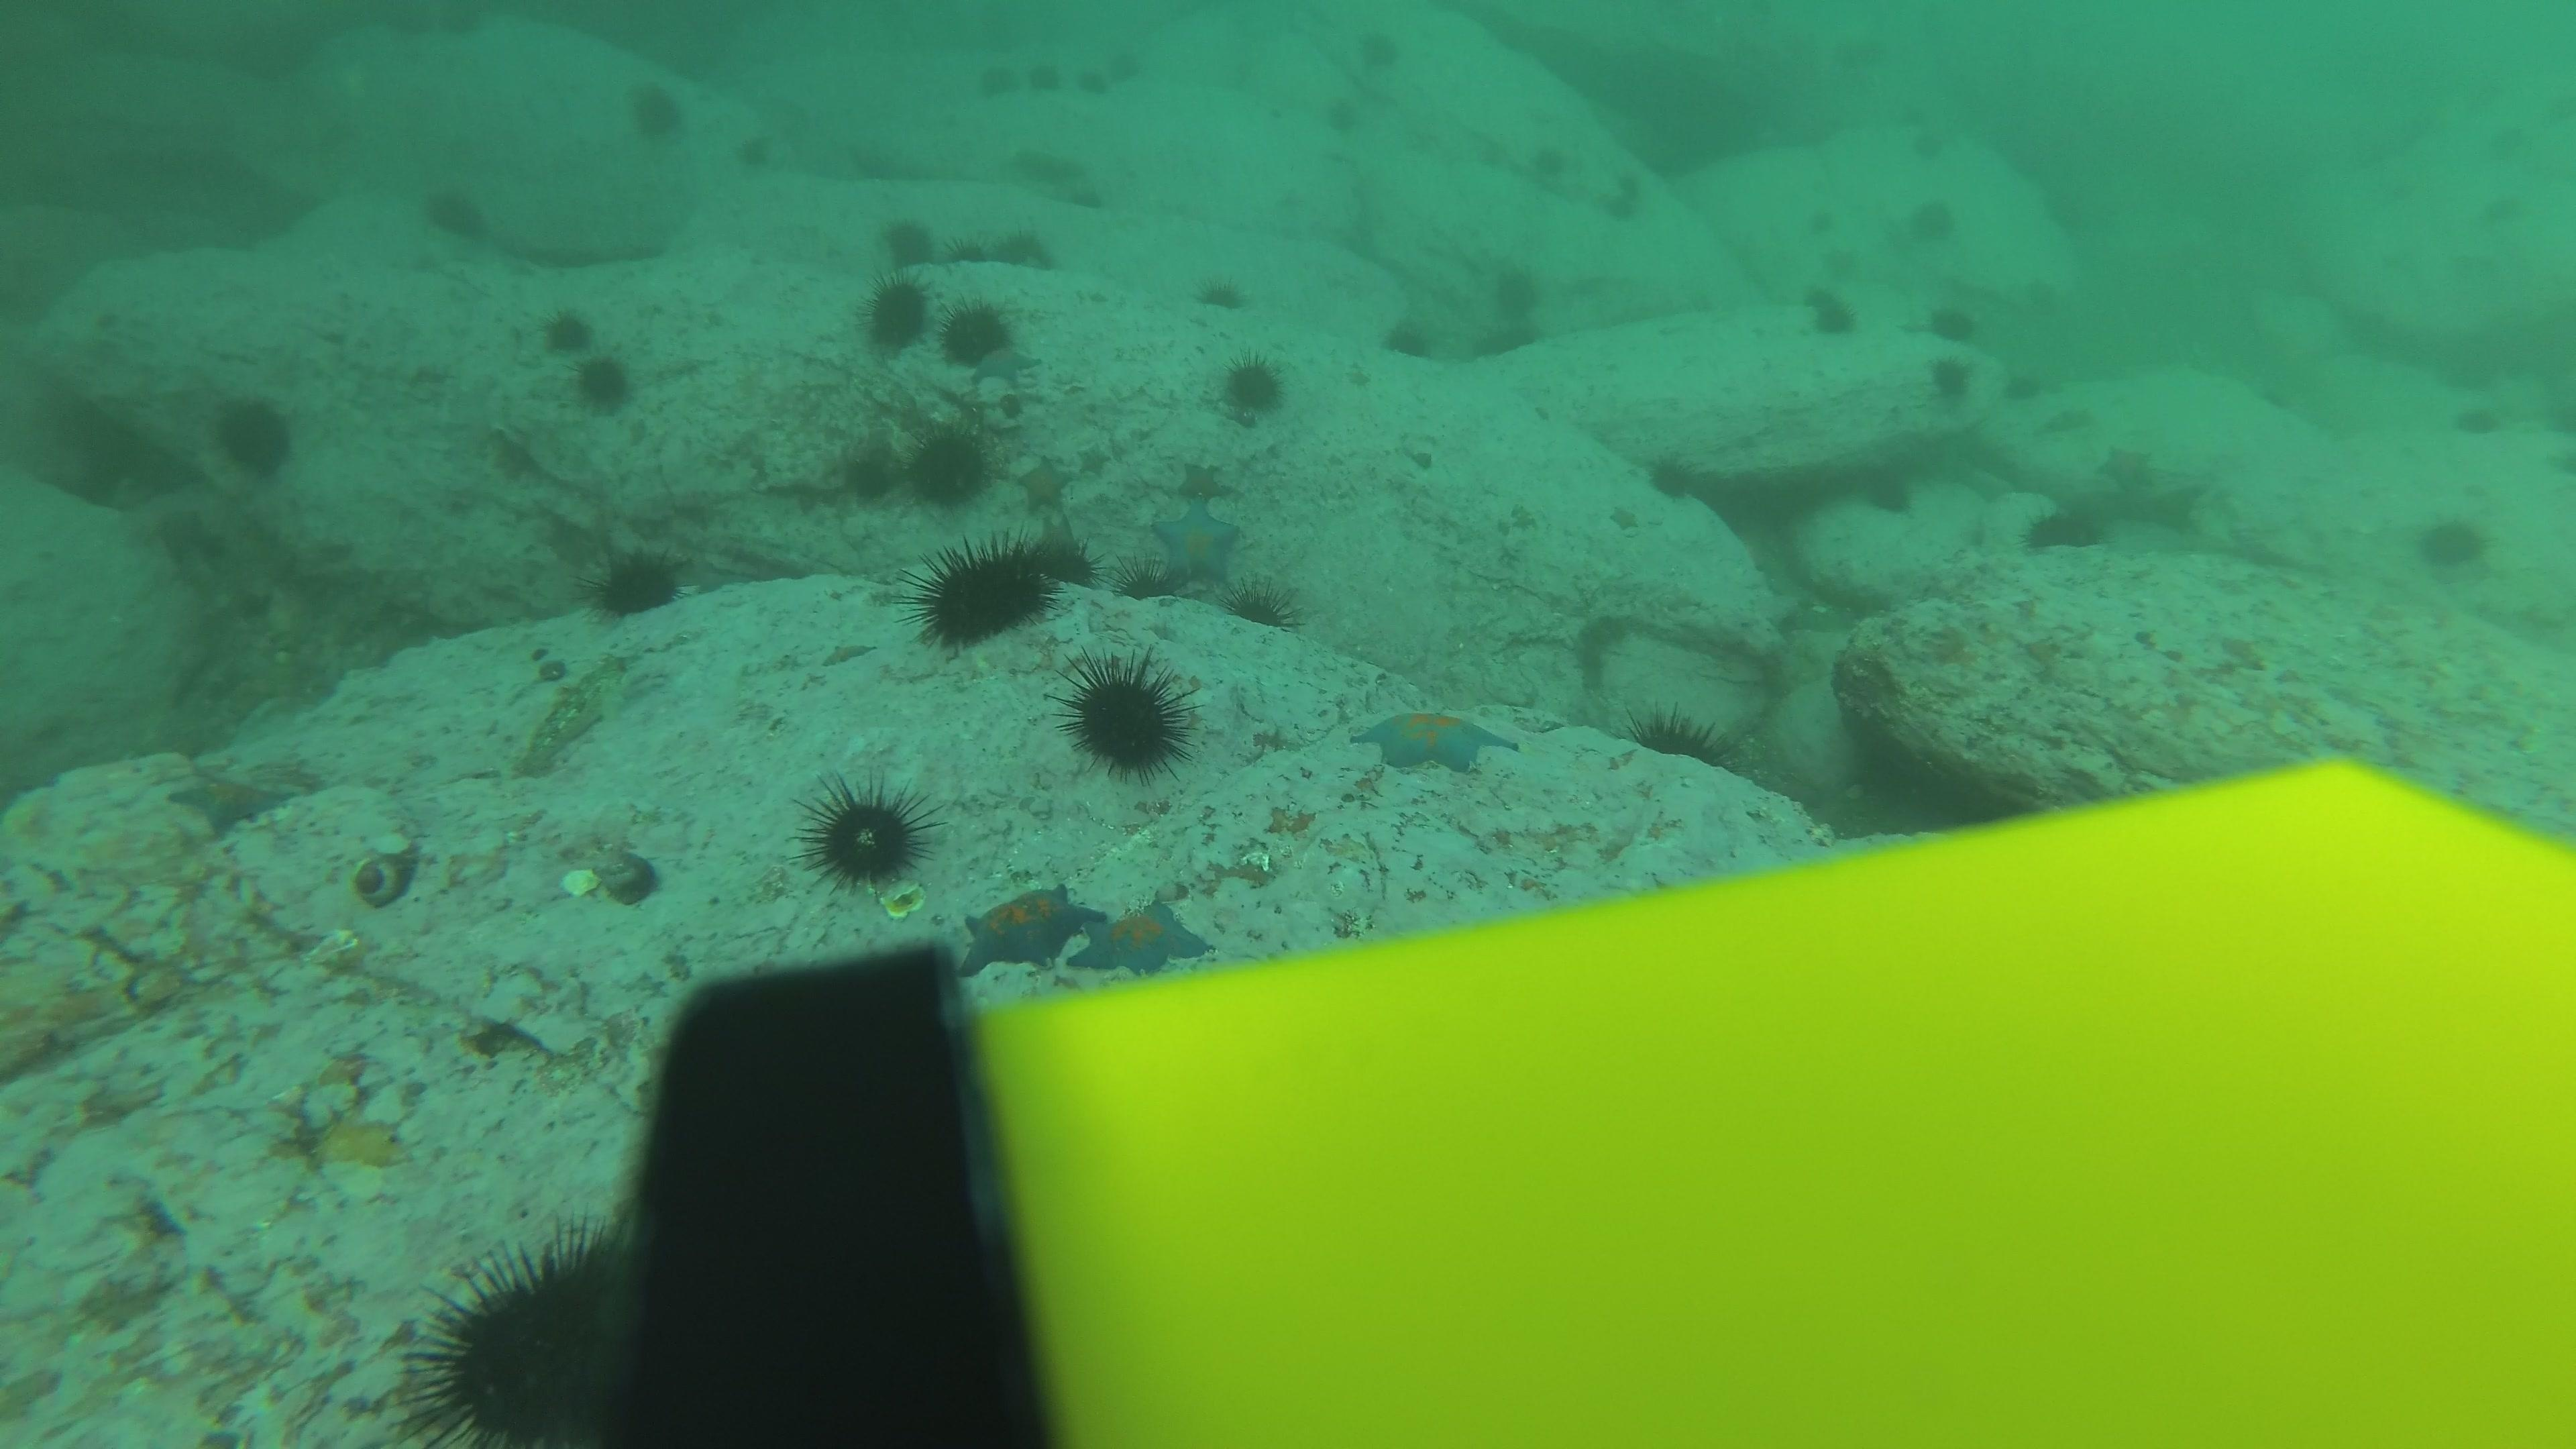echinus: (403, 1224, 658, 1444), (911, 531, 1065, 653), (1060, 651, 1194, 780), (800, 777, 931, 893), (586, 541, 690, 625), (209, 391, 299, 479), (902, 423, 993, 510), (1629, 702, 1729, 771), (561, 326, 635, 414), (840, 430, 929, 504), (941, 297, 1017, 370), (862, 274, 931, 354), (2438, 386, 2518, 455), (2411, 510, 2493, 577), (1215, 352, 1288, 421), (2022, 499, 2107, 557), (419, 180, 490, 246), (1226, 573, 1300, 633), (623, 78, 688, 145), (722, 117, 786, 186), (1470, 320, 1546, 375), (980, 218, 1053, 272), (1012, 55, 1070, 113), (1382, 318, 1440, 377), (876, 214, 936, 271), (941, 232, 1001, 288), (1062, 64, 1122, 120), (1099, 44, 1159, 101), (1192, 265, 1253, 322), (1488, 264, 1548, 320), (1522, 129, 1582, 186), (1063, 179, 1122, 235), (966, 55, 1024, 111), (1315, 90, 1373, 147), (1341, 21, 1399, 78), (1642, 448, 1698, 502), (540, 304, 598, 357), (2480, 177, 2530, 239), (2477, 111, 2526, 172), (2528, 435, 2576, 497), (2445, 235, 2493, 295), (1808, 234, 1867, 276), (1790, 196, 1849, 239), (2006, 274, 2065, 317), (1859, 474, 1918, 517), (1895, 126, 1953, 168), (1925, 356, 1974, 405), (1801, 288, 1858, 331), (1792, 281, 1849, 324), (1905, 193, 1962, 235), (1925, 301, 1982, 343), (1994, 364, 2051, 407), (1599, 184, 1644, 228), (1614, 165, 1654, 205)
holothurian: (2022, 405, 2100, 439)
starfish: (955, 883, 1104, 978), (1352, 702, 1518, 778), (1067, 895, 1215, 980), (161, 761, 308, 837), (1148, 497, 1246, 587), (2098, 441, 2178, 502), (1016, 453, 1072, 511), (971, 340, 1039, 387), (1175, 458, 1226, 506)
